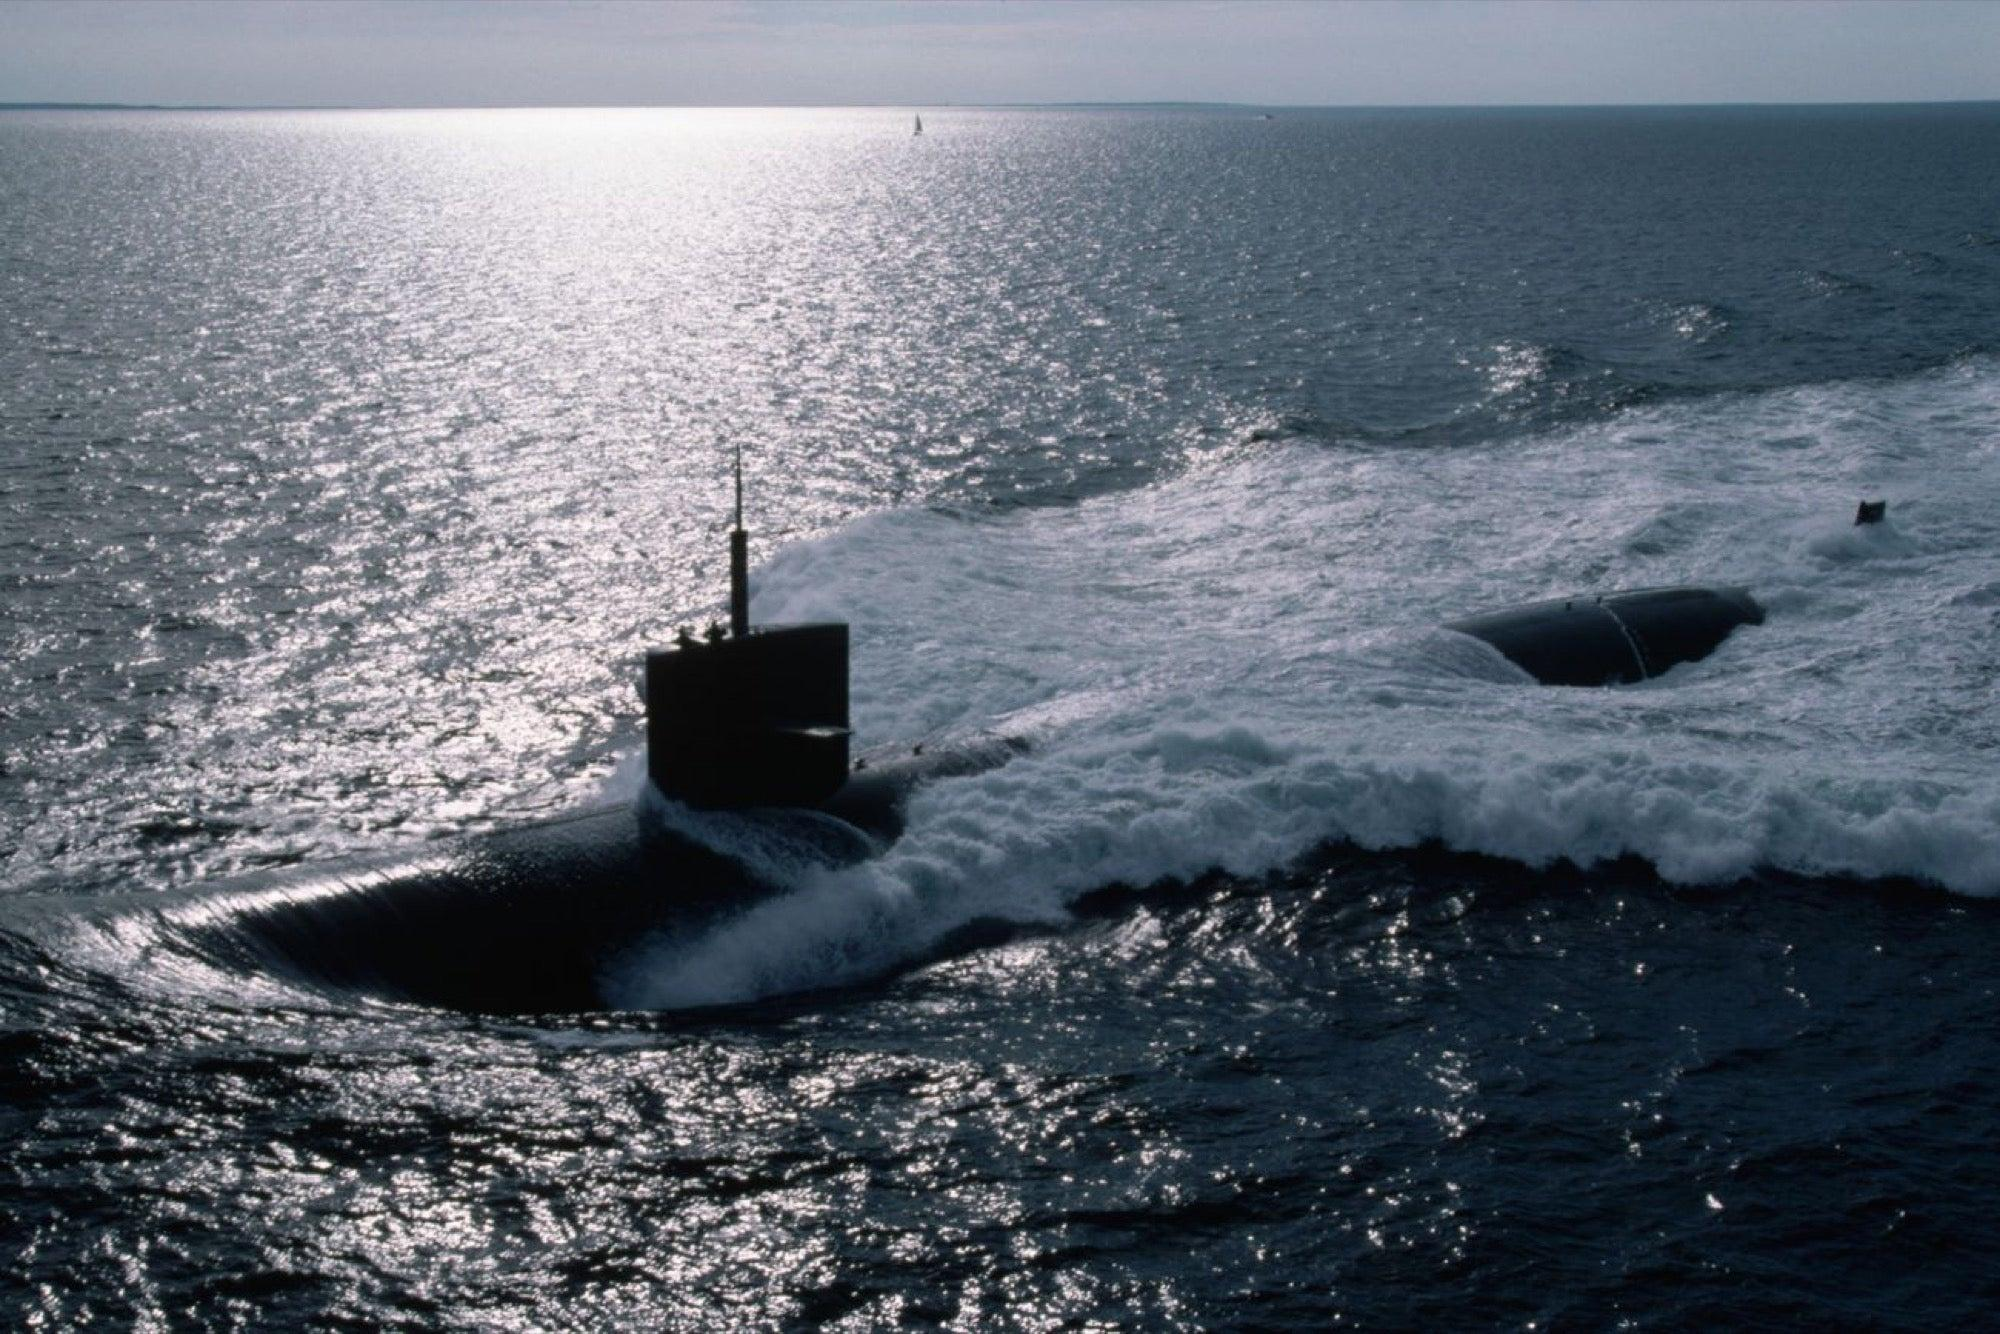Submarine: (0, 347, 2000, 1133)
